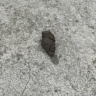Dog: (42, 30, 56, 56)
